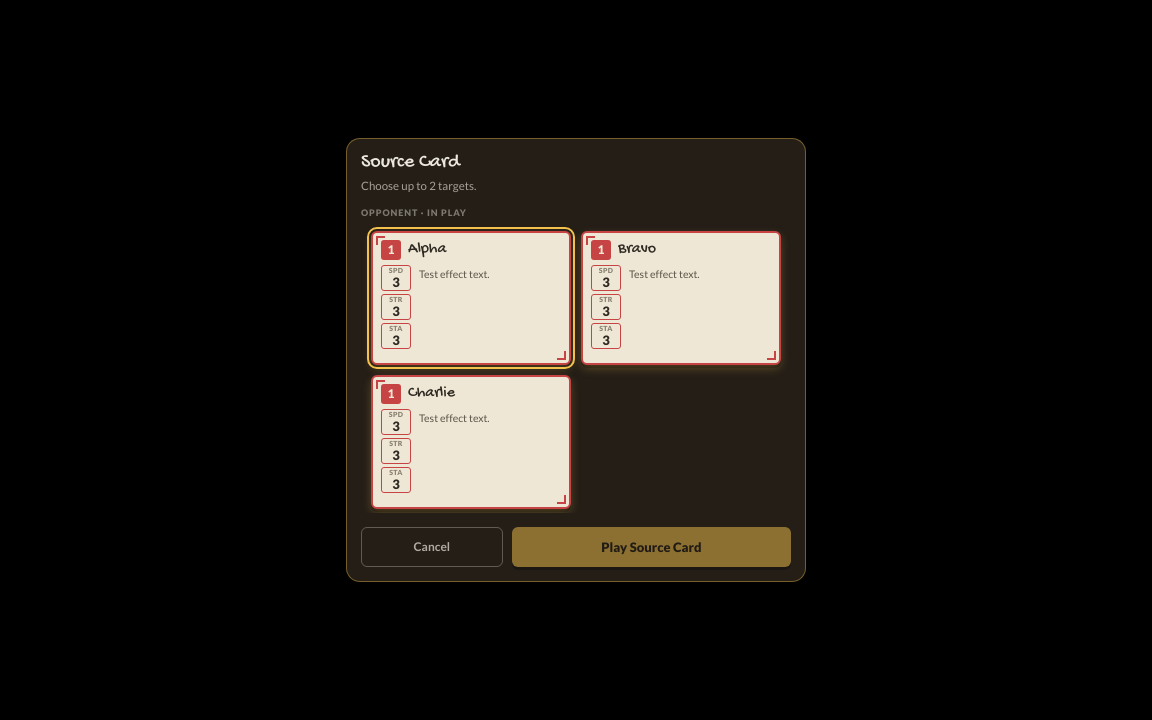
Scenario: TargetSelectionModal — selection semantics › multi-select: toggles up to max, and a third click at capacity does nothing
Click the button with aria-label "Alpha card" at (471, 298), box [371, 231, 571, 365]
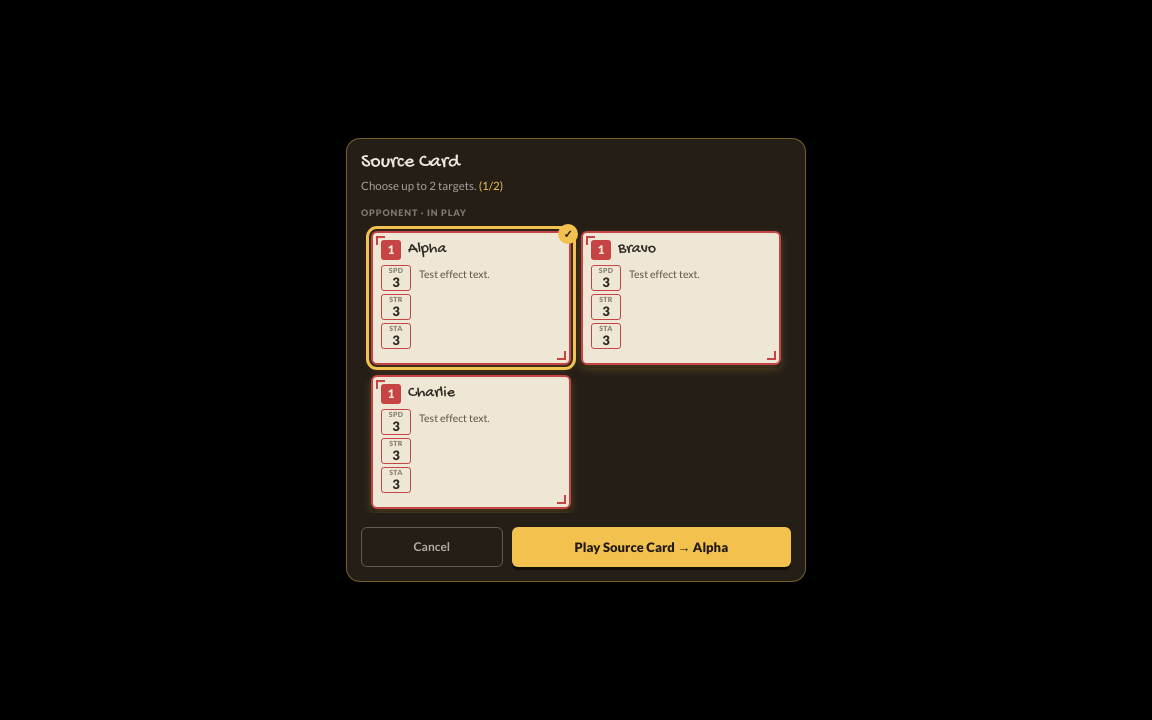
Click the button "1 Bravo SPD 3 STR 3 STA 3 Test effect text." at (681, 298), box [581, 231, 781, 365]
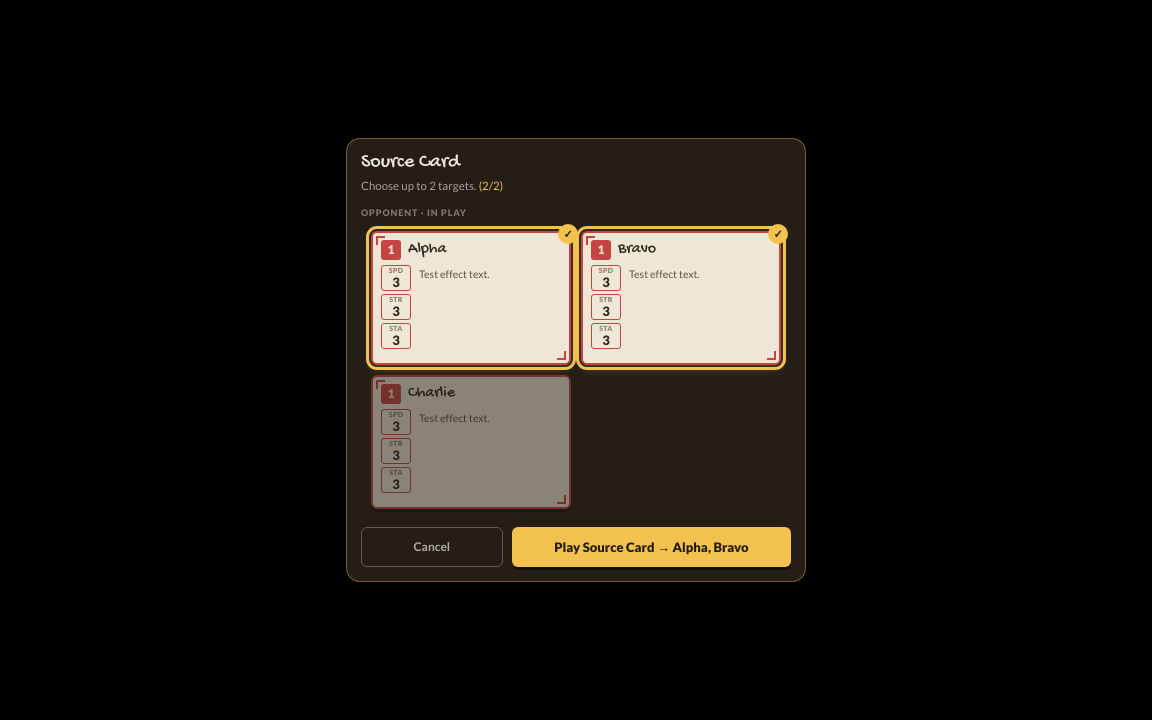
Now the text "(2/2)" is shown, box [476, 179, 503, 192]
Now the button "Play Source Card → Alpha, Bravo" is shown, box [512, 527, 791, 567]
